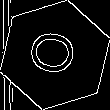O_E: (25, 28, 85, 82)
